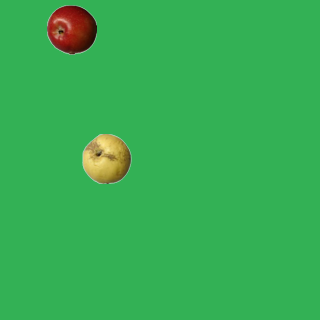Apple Braeburn: (46, 4, 96, 54)
Apple Golden 1: (81, 133, 131, 183)
